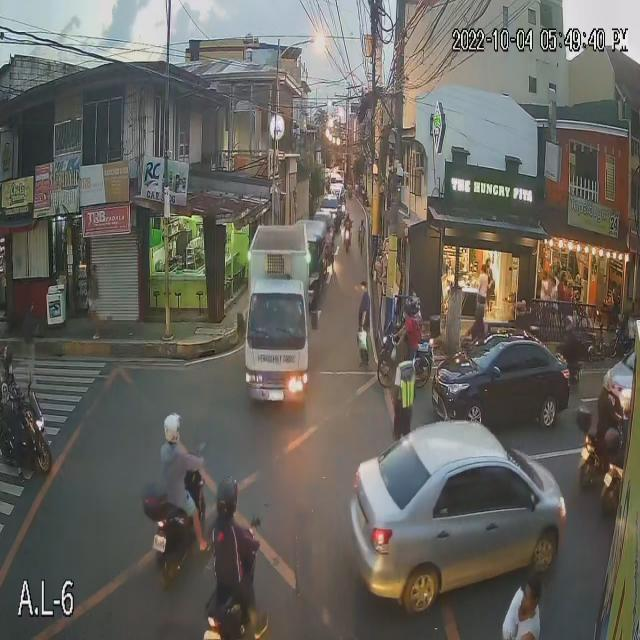helmet: (210, 475, 244, 519), (158, 411, 189, 447), (0, 345, 17, 376), (600, 373, 621, 395), (403, 297, 421, 319), (470, 303, 486, 325), (513, 299, 528, 321), (562, 313, 577, 332), (345, 211, 351, 217)
motorcycle: (140, 454, 208, 582), (199, 550, 271, 640), (0, 389, 55, 494), (572, 419, 624, 486), (378, 331, 443, 375), (603, 451, 630, 515), (342, 224, 353, 251)
rider: (201, 466, 257, 586), (153, 402, 198, 510), (0, 338, 27, 438), (462, 299, 494, 345), (401, 293, 430, 343), (595, 371, 620, 423), (510, 290, 537, 333), (558, 313, 582, 355), (343, 210, 353, 228)
